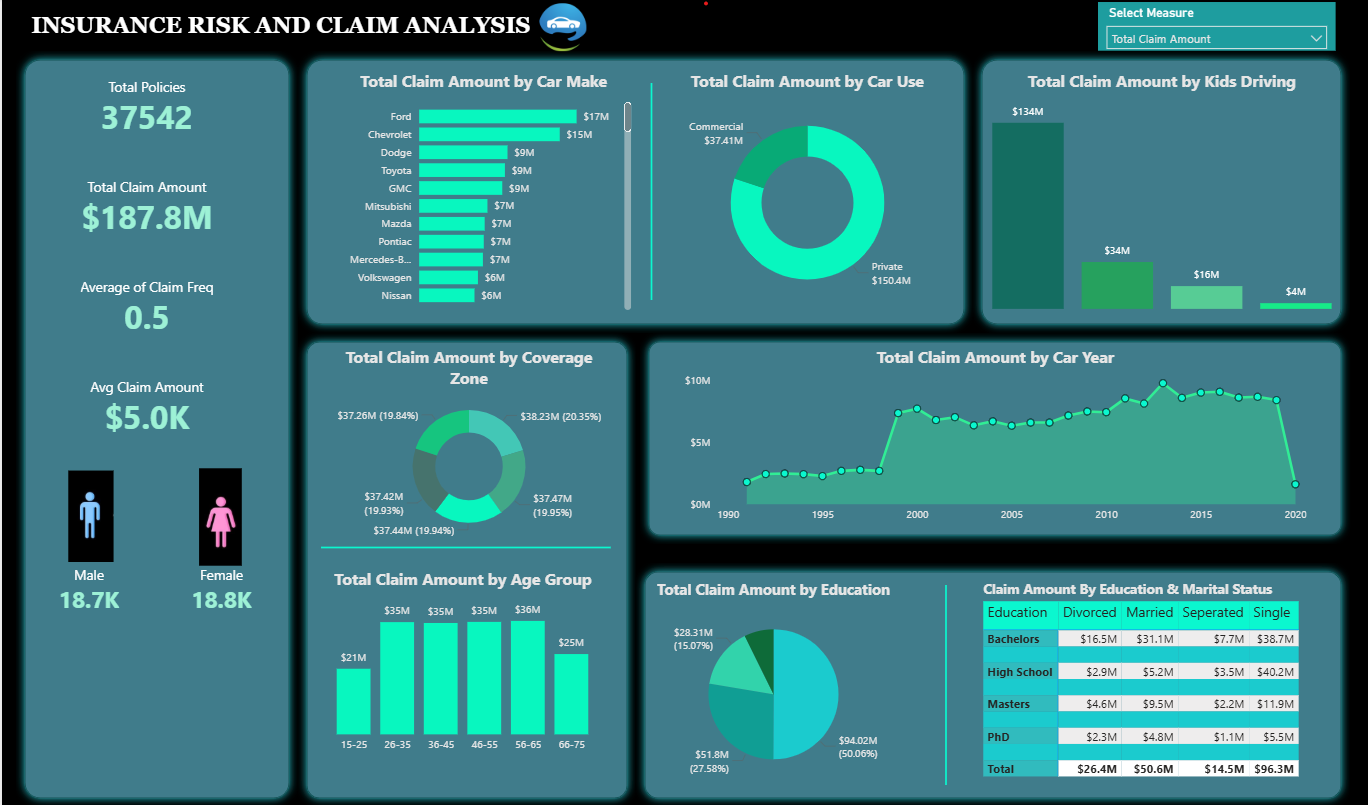

This screenshot's page, from the dashboard's own definition file:
{"tool":"powerbi","page":{"name":"Page 1","canvas":[1600,950],"ordinal":0},"visuals":[{"type":"textbox","box":[29.2,12.9,671.6,43.3],"z":0},{"type":"shape","box":[16.4,60.8,329.9,884.5],"z":1000},{"type":"cardVisual","fields":{"Data":["insurance_data_car.Total Policies","insurance_data_car.Total Claim Amount","Avg(insurance_data_car.Claim Freq)","insurance_data_car.Avg Claim Amount"]},"box":[35.3,72.9,269.9,459.6],"z":2000},{"type":"cardVisual","fields":{"Data":["insurance_data_car.Male Count","insurance_data_car.Female Count"]},"box":[29.2,637.6,301.8,107.6],"z":3000},{"type":"image","box":[72.5,541.7,63.2,126.4],"z":4000},{"type":"image","box":[202.4,541.7,118.2,124],"z":5000},{"type":"slicer","fields":{"Values":["Select Measure.Select Measure"]},"box":[1282.3,3.5,278.4,57.3],"z":6000},{"type":"shape","box":[346.3,60.8,789.7,329.9],"z":7000},{"type":"donutChart","fields":{"Y":["insurance_data_car.Total Claim Amount"],"Category":["insurance_data_car.Car Use"]},"box":[772.2,83.1,340.5,285.5],"z":8000},{"type":"clusteredBarChart","fields":{"Y":["insurance_data_car.Total Claim Amount"],"Category":["insurance_data_car.Car Make"]},"box":[386.6,82.7,355,285.7],"z":9000},{"type":"shape","box":[1136,60.8,441.1,329.9],"z":10000},{"type":"shape","box":[346.3,390.8,395.4,554.6],"z":11000},{"type":"clusteredColumnChart","fields":{"Y":["insurance_data_car.Total Claim Amount"],"Category":["insurance_data_car.Age Group"]},"box":[366.2,665.7,346.3,224.6],"z":12000},{"type":"donutChart","fields":{"Y":["insurance_data_car.Total Claim Amount"],"Category":["insurance_data_car.Coverage Zone"]},"box":[374.4,406,344,231.7],"z":13000},{"type":"clusteredColumnChart","fields":{"Y":["insurance_data_car.Total Claim Amount"],"Category":["insurance_data_car.Kids Driving"]},"box":[1153.6,83.1,407.1,285.5],"z":14000},{"type":"shape","box":[746.4,390.8,830.7,246.9],"z":15000},{"type":"areaChart","fields":{"Y":["insurance_data_car.Total Claim Amount"],"Category":["insurance_data_car.Car Year"]},"box":[792.7,406.1,738,215.2],"z":16000},{"type":"shape","box":[741.7,659.9,835.3,285.5],"z":17000},{"type":"pieChart","fields":{"Y":["insurance_data_car.Total Claim Amount"],"Category":["insurance_data_car.Education"]},"box":[760.5,678.6,284.3,246.9],"z":18000},{"type":"pivotTable","title":"Claim Amount By Education & Marital Status","fields":{"Rows":["insurance_data_car.Education"],"Columns":["insurance_data_car.Marital Status"],"Values":["insurance_data_car.Total Claim Amount"]},"box":[1143,678.6,417.7,239.8],"z":19000},{"type":"shape","box":[730,98.3,59.7,253.9],"z":20000},{"type":"shape","box":[1081,685.6,46.8,234],"z":21000},{"type":"shape","box":[373.2,604.9,339.3,73.7],"z":22000},{"type":"image","box":[620.1,0,65.5,70.2],"z":22001}]}

Visuals, with their boxes in screenshot pixels (x1, y1, x2, y2), scaled from the page's 1600x950 canvas onto the 1368x805 screenshot:
textbox: bbox=[25, 11, 599, 48]
shape: bbox=[14, 52, 296, 801]
cardVisual - insurance_data_car.Total Policies x insurance_data_car.Total Claim Amount: bbox=[30, 62, 261, 451]
cardVisual - insurance_data_car.Male Count x insurance_data_car.Female Count: bbox=[25, 540, 283, 631]
image: bbox=[62, 459, 116, 566]
image: bbox=[173, 459, 274, 564]
slicer - Select Measure.Select Measure: bbox=[1096, 3, 1334, 52]
shape: bbox=[296, 52, 971, 331]
donutChart - insurance_data_car.Total Claim Amount x insurance_data_car.Car Use: bbox=[660, 70, 951, 312]
clusteredBarChart - insurance_data_car.Total Claim Amount x insurance_data_car.Car Make: bbox=[331, 70, 634, 312]
shape: bbox=[971, 52, 1348, 331]
shape: bbox=[296, 331, 634, 801]
clusteredColumnChart - insurance_data_car.Total Claim Amount x insurance_data_car.Age Group: bbox=[313, 564, 609, 754]
donutChart - insurance_data_car.Total Claim Amount x insurance_data_car.Coverage Zone: bbox=[320, 344, 614, 540]
clusteredColumnChart - insurance_data_car.Total Claim Amount x insurance_data_car.Kids Driving: bbox=[986, 70, 1334, 312]
shape: bbox=[638, 331, 1348, 540]
areaChart - insurance_data_car.Total Claim Amount x insurance_data_car.Car Year: bbox=[678, 344, 1309, 526]
shape: bbox=[634, 559, 1348, 801]
pieChart - insurance_data_car.Total Claim Amount x insurance_data_car.Education: bbox=[650, 575, 893, 784]
"Claim Amount By Education & Marital Status" pivotTable: bbox=[977, 575, 1334, 778]
shape: bbox=[624, 83, 675, 298]
shape: bbox=[924, 581, 964, 779]
shape: bbox=[319, 513, 609, 575]
image: bbox=[530, 0, 586, 59]
